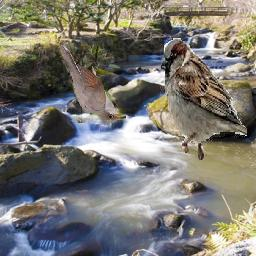Cuckoo: (58, 43, 127, 123)
Sparrow: (159, 39, 247, 164)
